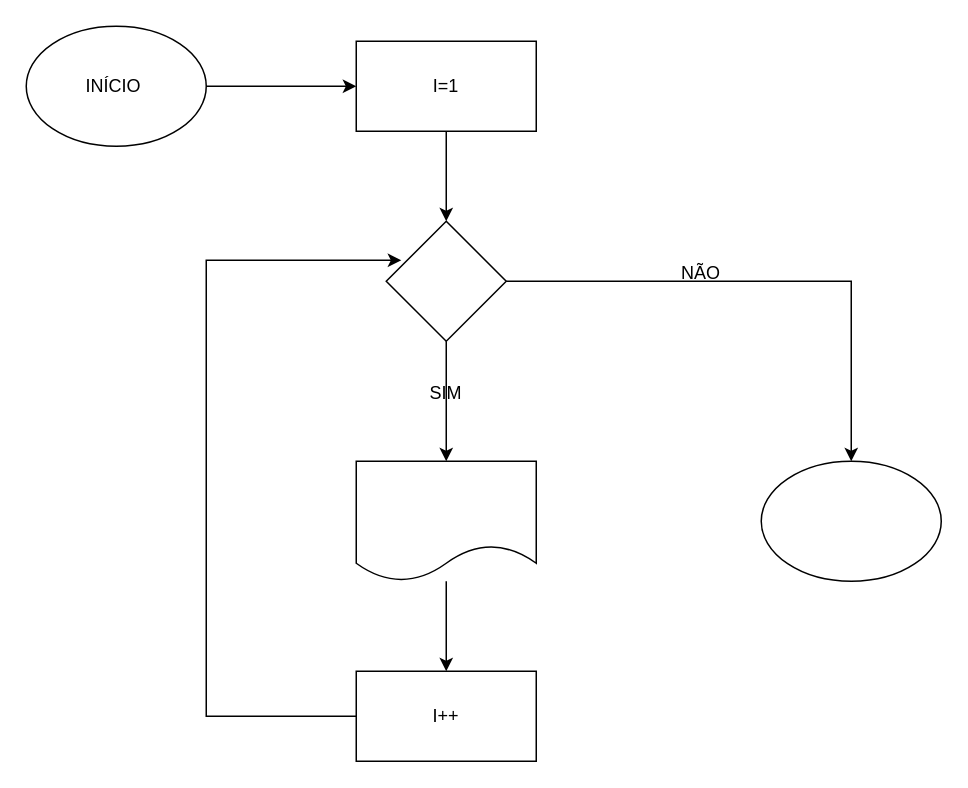
Image size: 968x788. Some labels were removed from this diagram. The centre of each missing label's shape, as x and y in pixels:
"EU GOSTO DE ESTUDAR ALGORITIMOS" goes at [445,520].
"I<=20" goes at [445,280].
